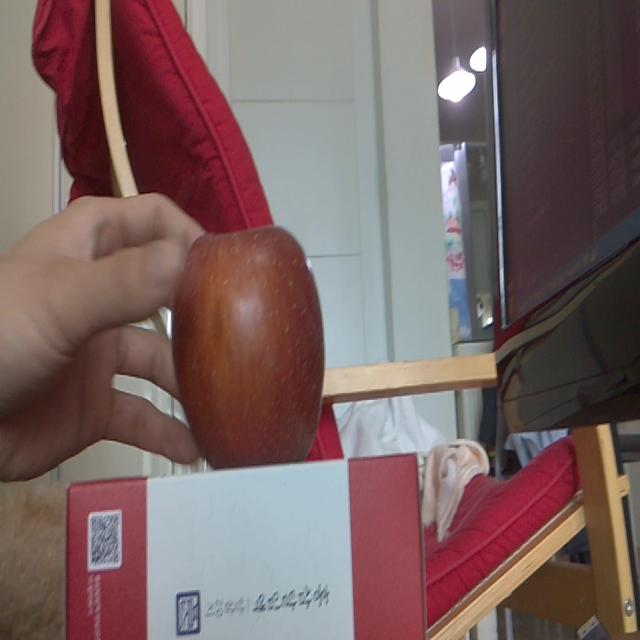apple: (178, 224, 326, 479)
